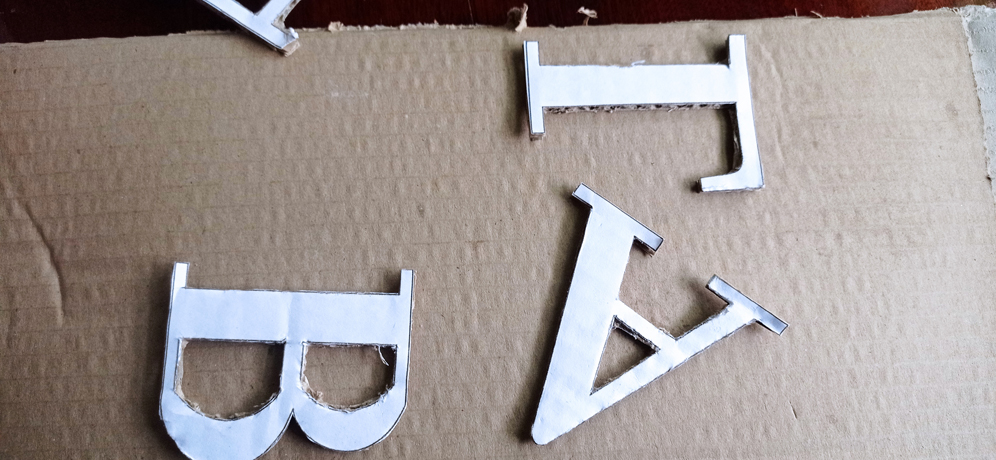a: (528, 183, 788, 446)
g: (522, 34, 765, 192)
v: (159, 260, 415, 460)
